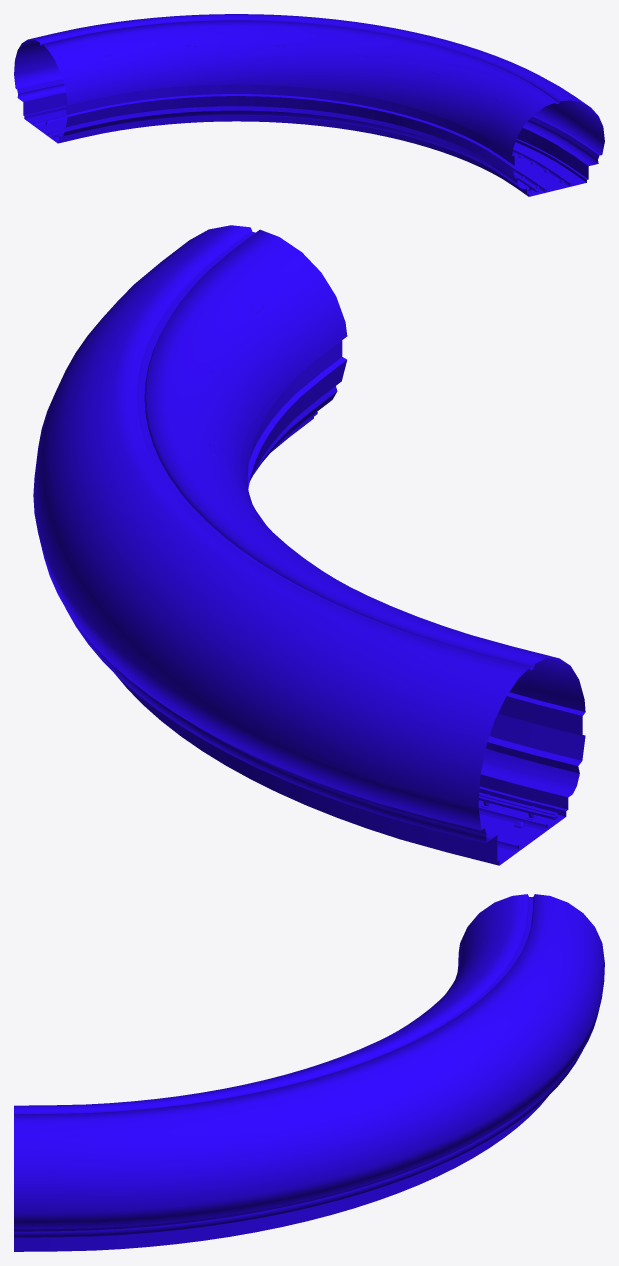
The model's file is bend_left_collider.dae.
3 views of the same model, one above another, from view 1: azimuth 30°, elevation 25°; view 2: azimuth 150°, elevation 25°; view 3: azimuth 270°, elevation 25° (orthographic). The views are drawn at different scales.
Visible parts, largest first — view 1: Bend_Left_Collider; view 2: Bend_Left_Collider; view 3: Bend_Left_Collider.
Boxes of the visible parts, left/top/right/bottom form: Bend_Left_Collider: left=14, top=14, right=604, bottom=196; Bend_Left_Collider: left=33, top=225, right=585, bottom=865; Bend_Left_Collider: left=14, top=894, right=604, bottom=1251.
Size of the model in its own units: 2285 by 2285 by 532.
